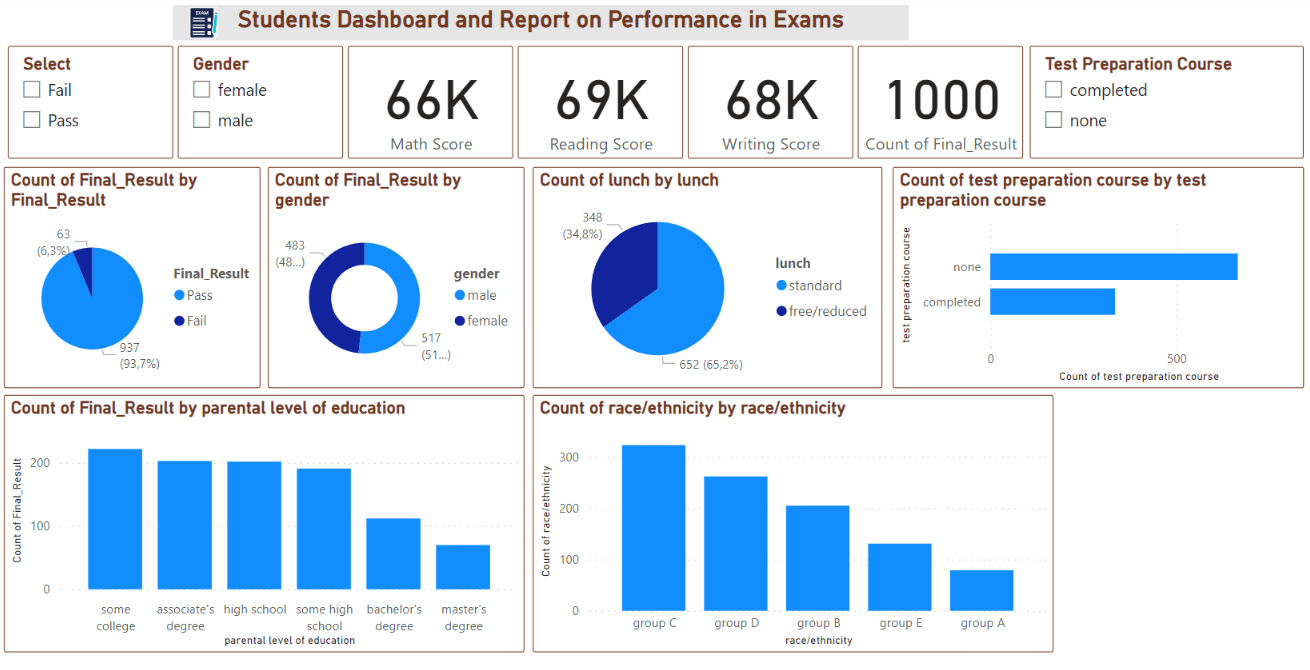

This screenshot's page, from the dashboard's own definition file:
{"tool":"powerbi","page":{"name":"Page 1","canvas":[1280,720],"ordinal":0},"visuals":[{"type":"card","fields":{"Values":["Sum(exams.writing score)"]},"box":[673.1,48.6,160.5,109.9],"z":0},{"type":"card","fields":{"Values":["Sum(exams.reading score)"]},"box":[507.7,48.6,160.5,109.9],"z":1000},{"type":"card","fields":{"Values":["Sum(exams.math score)"]},"box":[342.4,48.6,160.5,109.9],"z":2000},{"type":"donutChart","fields":{"Category":["exams.gender"],"Y":["CountNonNull(exams.Final_Result)"]},"box":[264.6,166.3,250,215],"z":3000},{"type":"columnChart","fields":{"Y":["CountNonNull(exams.Final_Result)"],"Category":["exams.parental level of education"]},"box":[7.8,388.1,506.7,250],"z":4000},{"type":"pieChart","fields":{"Y":["CountNonNull(exams.Final_Result)"],"Category":["exams.Final_Result"]},"box":[7.8,166.3,250,215],"z":5000},{"type":"columnChart","fields":{"Y":["CountNonNull(exams.race/ethnicity)"],"Category":["exams.race/ethnicity"]},"box":[522.3,388.1,506.7,250],"z":6000},{"type":"slicer","fields":{"Values":["exams.gender"]},"box":[177,48.6,160.5,109.9],"z":7000},{"type":"pieChart","fields":{"Category":["exams.lunch"],"Y":["CountNonNull(exams.lunch)"]},"box":[522.3,166.3,340,215],"z":8000},{"type":"clusteredBarChart","fields":{"Category":["exams.test preparation course"],"Y":["CountNonNull(exams.test preparation course)"]},"box":[872.5,166.3,399.8,215],"z":9000},{"type":"textbox","title":"Students Dashboard and Report on Performance in Exams","box":[172.2,8.8,716,34],"z":9001},{"type":"image","box":[171.2,5.8,61.3,39.9],"z":9002},{"type":"card","fields":{"Values":["CountNonNull(exams.Final_Result)"]},"box":[838.4,48.6,160.5,109.9],"z":9003},{"type":"slicer","fields":{"Values":["exams.Final_Result"]},"box":[11.7,48.6,160.5,109.9],"z":9004},{"type":"slicer","fields":{"Values":["exams.test preparation course"]},"box":[1005.7,48.6,266.5,109.9],"z":9005}]}

Visuals, with their boxes on the page's 1280x720 design canvas (x1, y1, x2, y2). These are canvas units, not pixel positions in the 1310x670 screenshot, which may show the page scaled, cropped or inside an application window:
card - Sum(exams.writing score): 673,49,834,158
card - Sum(exams.reading score): 508,49,668,158
card - Sum(exams.math score): 342,49,503,158
donutChart - exams.gender x CountNonNull(exams.Final_Result): 265,166,515,381
columnChart - CountNonNull(exams.Final_Result) x exams.parental level of education: 8,388,514,638
pieChart - CountNonNull(exams.Final_Result) x exams.Final_Result: 8,166,258,381
columnChart - CountNonNull(exams.race/ethnicity) x exams.race/ethnicity: 522,388,1029,638
slicer - exams.gender: 177,49,338,158
pieChart - exams.lunch x CountNonNull(exams.lunch): 522,166,862,381
clusteredBarChart - exams.test preparation course x CountNonNull(exams.test preparation course): 872,166,1272,381
"Students Dashboard and Report on Performance in Exams" textbox: 172,9,888,43
image: 171,6,232,46
card - CountNonNull(exams.Final_Result): 838,49,999,158
slicer - exams.Final_Result: 12,49,172,158
slicer - exams.test preparation course: 1006,49,1272,158
